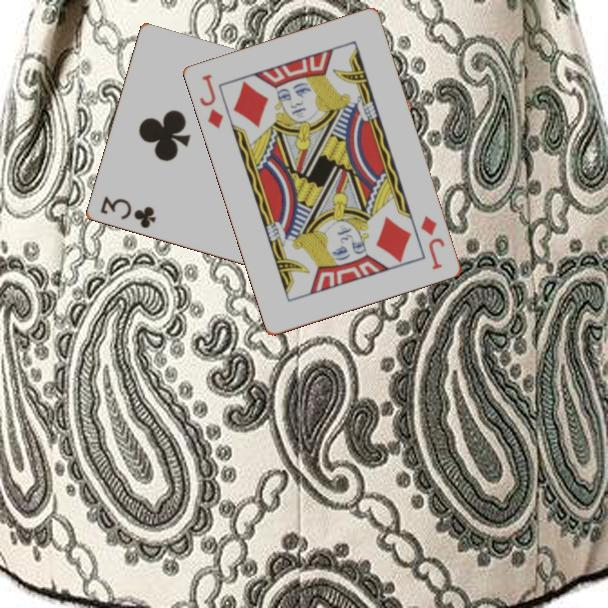c03: (96, 193, 159, 232)
d11: (196, 71, 227, 132), (418, 212, 448, 273)
